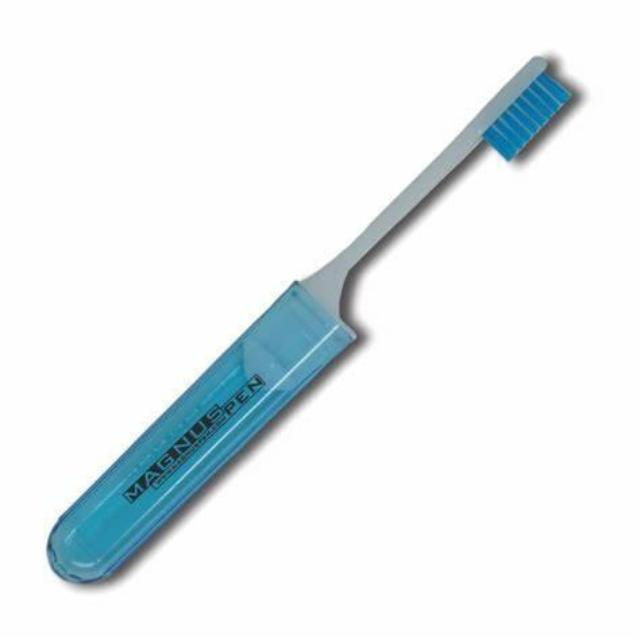toothbrush: (45, 52, 598, 570)
